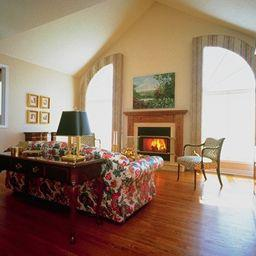Ventana: (198, 46, 254, 164), (82, 65, 118, 151)
